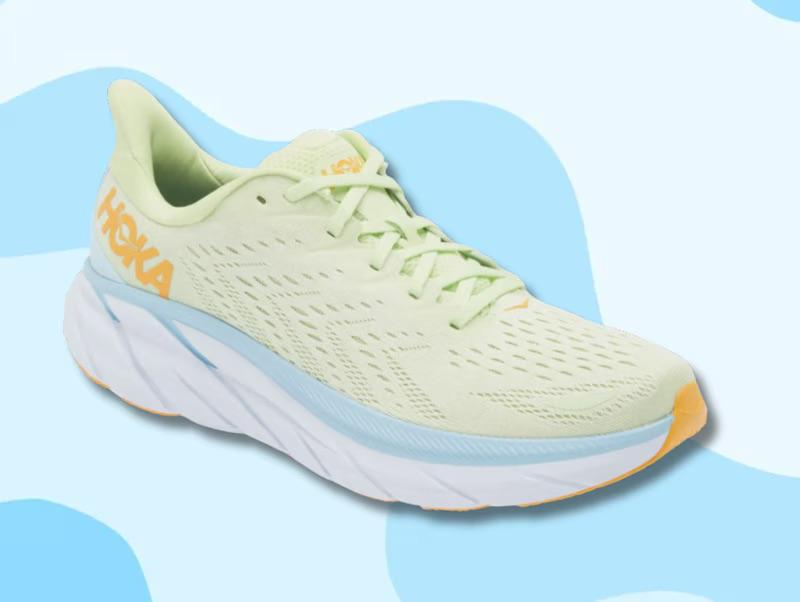hoka logo: (94, 182, 176, 299), (492, 285, 561, 338), (320, 155, 364, 189)
